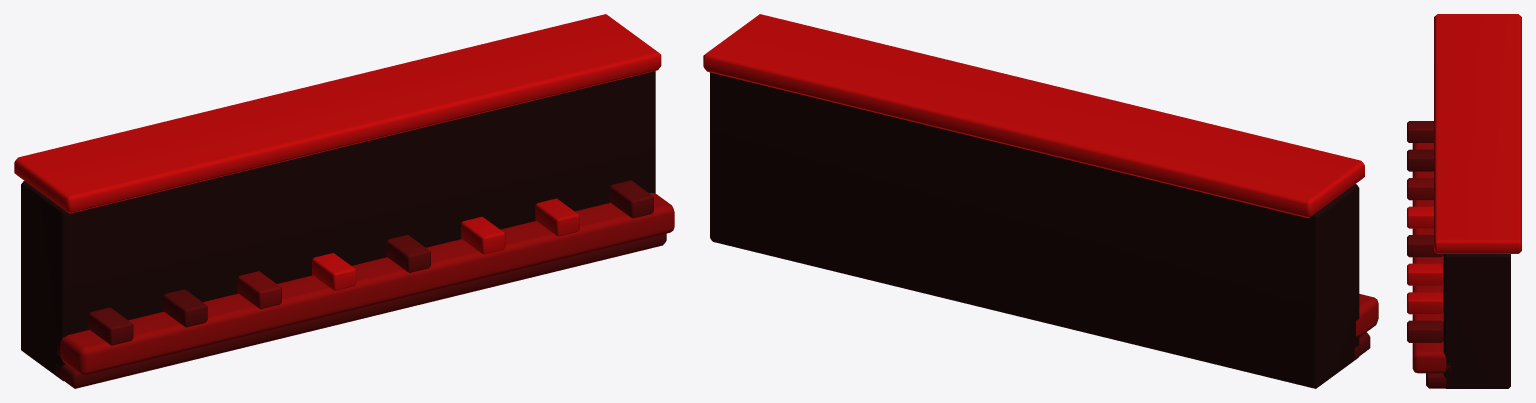
The model's file is cornice_a.glb.
3 renders of one model, left to right at view 1: azimuth 30°, elevation 25°; view 2: azimuth 150°, elevation 25°; view 3: azimuth 270°, elevation 25°, orthographic. The views are drawn at different scales.
Visible parts, largest first — view 1: cornice_a; view 2: cornice_a; view 3: cornice_a.
Boxes of the visible parts, x1,y1,x2,y2 form: cornice_a: [14, 14, 674, 388]; cornice_a: [703, 14, 1378, 388]; cornice_a: [1407, 14, 1521, 388].
Bounding box in the file's own units: 4 × 1.22 × 0.85.
